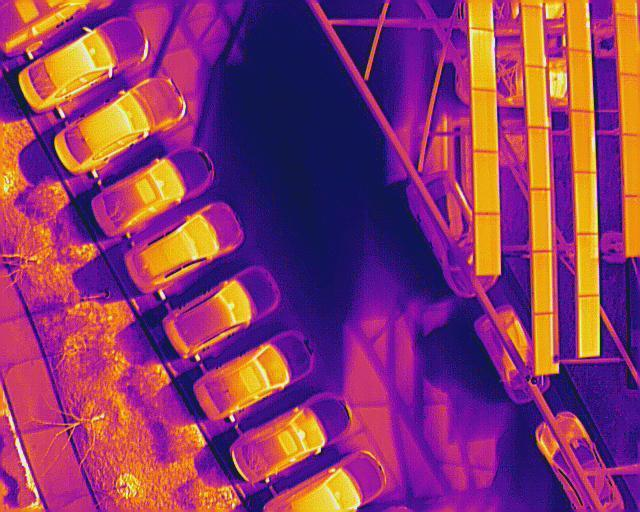No-Anomaly: (471, 84, 498, 154), (471, 148, 498, 217), (530, 248, 556, 315), (474, 211, 500, 276), (527, 126, 552, 193), (528, 187, 553, 253), (525, 63, 550, 128), (522, 4, 546, 69), (615, 14, 640, 75), (570, 48, 593, 114), (576, 234, 599, 297), (578, 295, 600, 358), (532, 314, 553, 375)
Unclassified: (469, 26, 497, 93), (573, 170, 598, 236), (571, 108, 596, 173), (568, 0, 591, 53)
